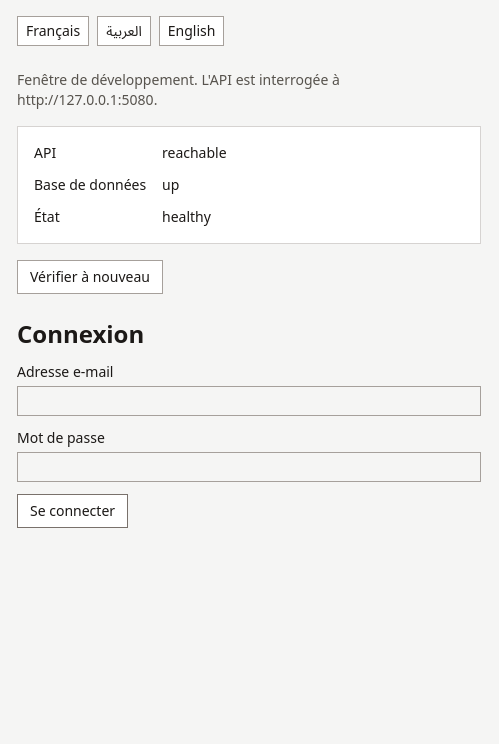
Test: App › shows a failed login in French and a successful login keeps the refresh token in memory
Expected: the heading "Connexion" is shown, [17,317,144,350]
Type "owner@example.com" into the field labelled "Adresse e-mail". click: (249, 401)
box: [17,386,481,416]
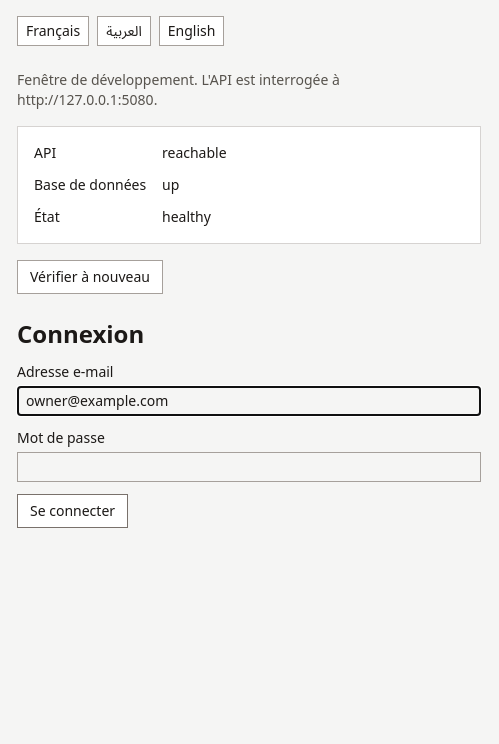
Type "wrong-password-value" into the password field labelled "Mot de passe". click: (249, 467)
box: [17,452,481,482]
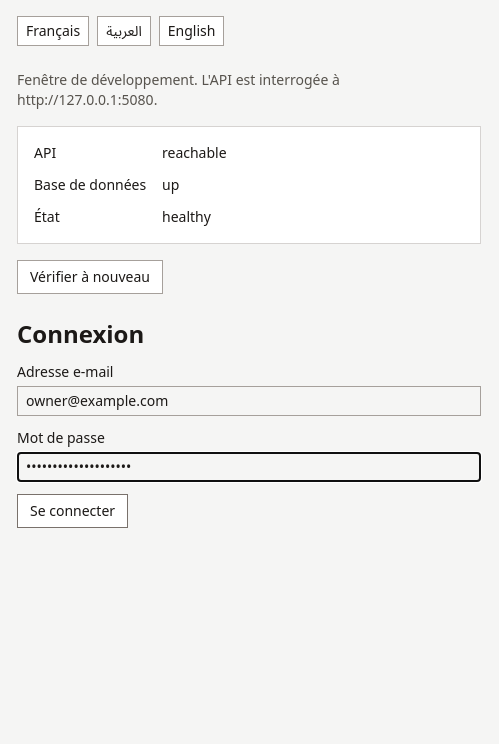
Click the button "Se connecter". click: (73, 511)
box: [17,494,128,528]
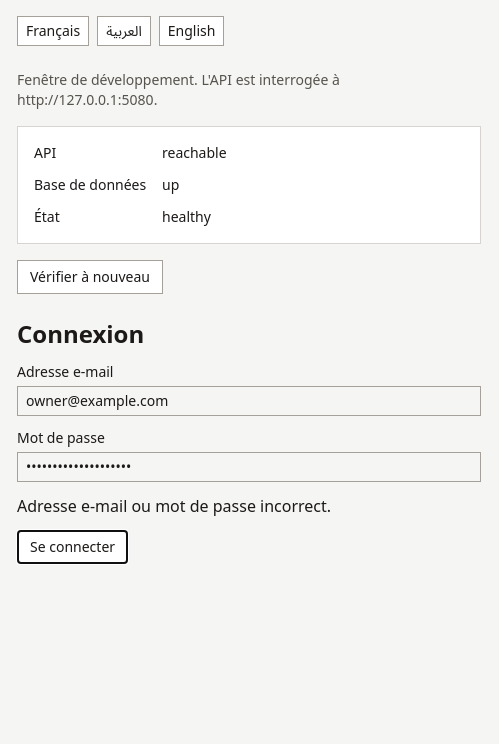
Expected: the message reads "Adresse e-mail ou mot de passe incorrect.", [17,495,331,517]
Type "correct-horse-battery" into the password field labelled "Mot de passe". click: (249, 467)
box: [17,452,481,482]
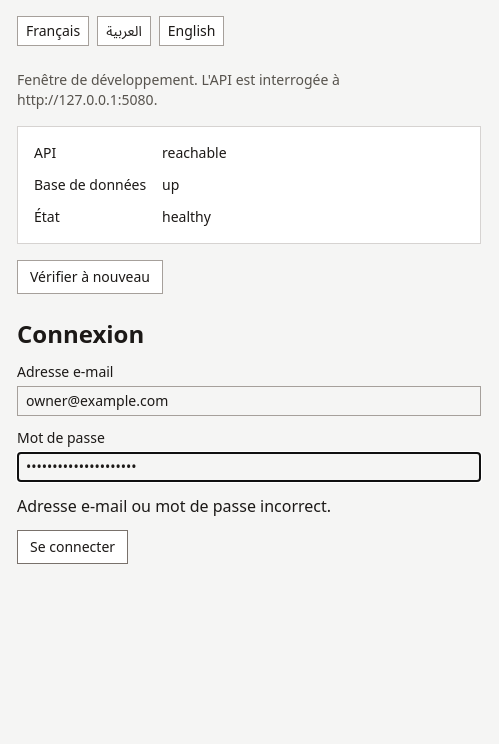
Click the button "Se connecter". click: (73, 547)
box: [17,530,128,564]
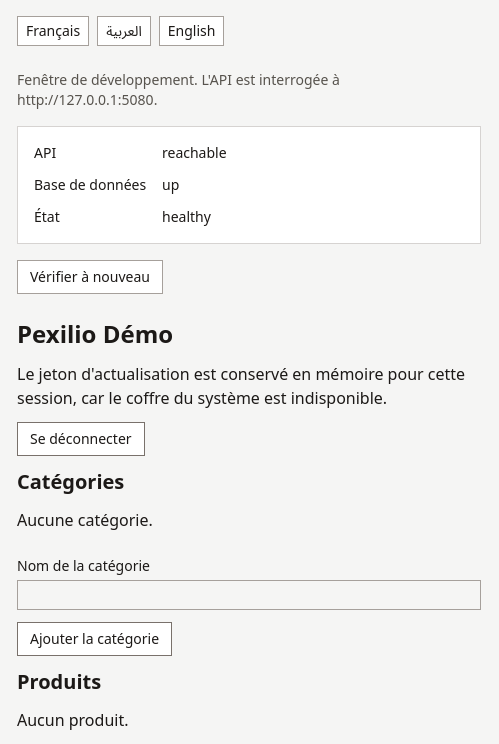
Expected: the heading "Pexilio Démo" is shown, [17,317,173,350]
Expected: the text "conservé en mémoire" is shown, [17,363,465,409]
Expected: the text "Aucun produit." is shown, [17,709,128,731]
